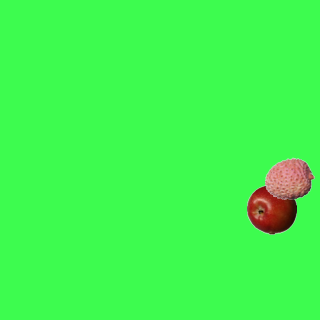Apple Braeburn: (246, 184, 296, 234)
Lychee: (264, 153, 314, 203)
